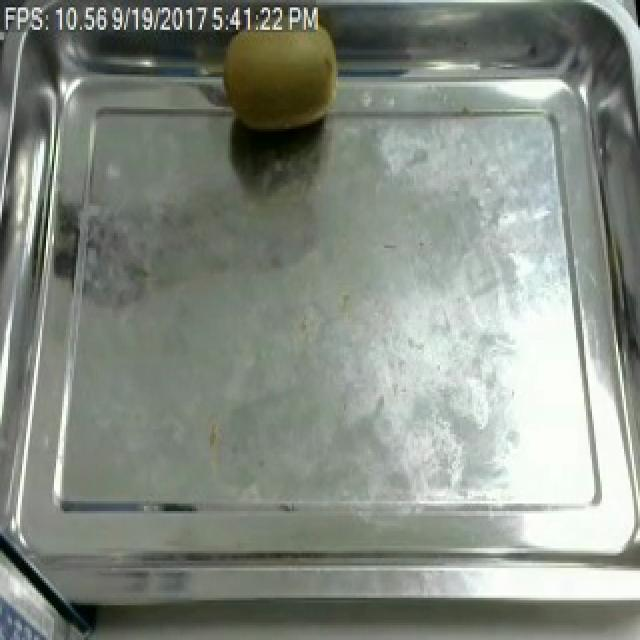Fruit: (214, 5, 346, 141)
